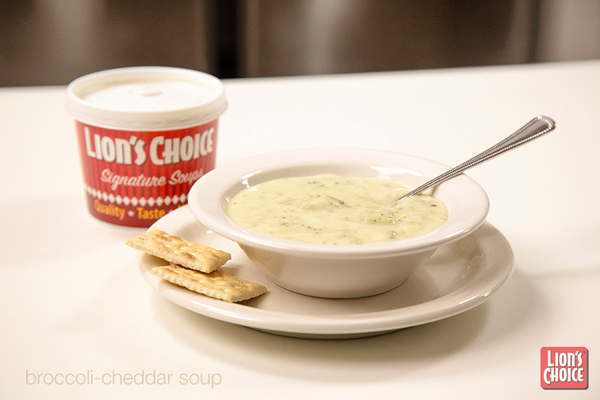salad: (390, 114, 556, 204)
sushi: (188, 141, 492, 300)
